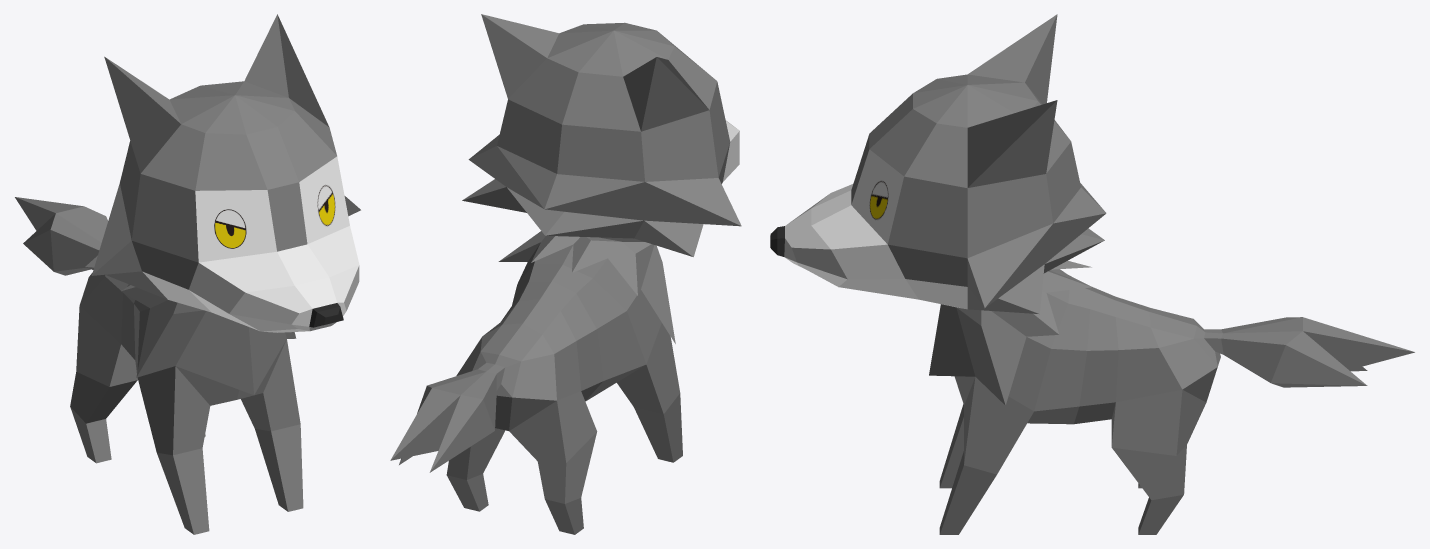
File: Wolf.fbx
The picture shows the model from 3 angles, left to right: view 1: azimuth 30°, elevation 25°; view 2: azimuth 150°, elevation 25°; view 3: azimuth 270°, elevation 25°; orthographic projection.
Visible parts, largest first — view 1: Cylinder.009; view 2: Cylinder.009; view 3: Cylinder.009.
Part boxes in pixels (x1=…): Cylinder.009: x1=15, y1=14, x2=360, y2=534; Cylinder.009: x1=390, y1=14, x2=741, y2=534; Cylinder.009: x1=770, y1=14, x2=1414, y2=534.
Size of the model in its own units: 55.73 by 87.64 by 114.
